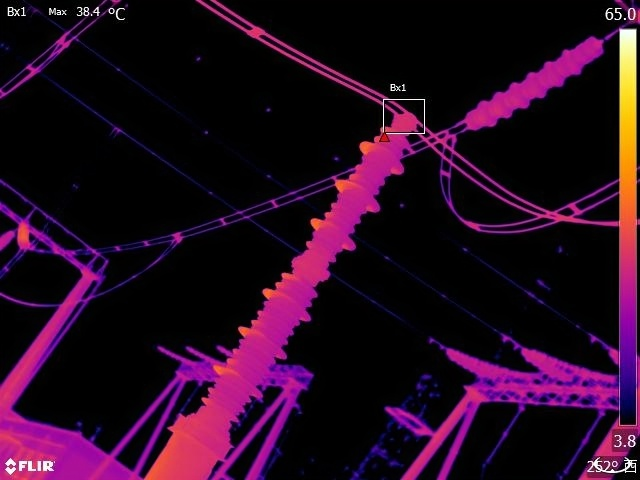clamp: (439, 122, 460, 149)
insulator: (453, 29, 605, 136), (443, 343, 512, 382), (521, 347, 586, 385)
post insulator: (189, 103, 423, 438)
